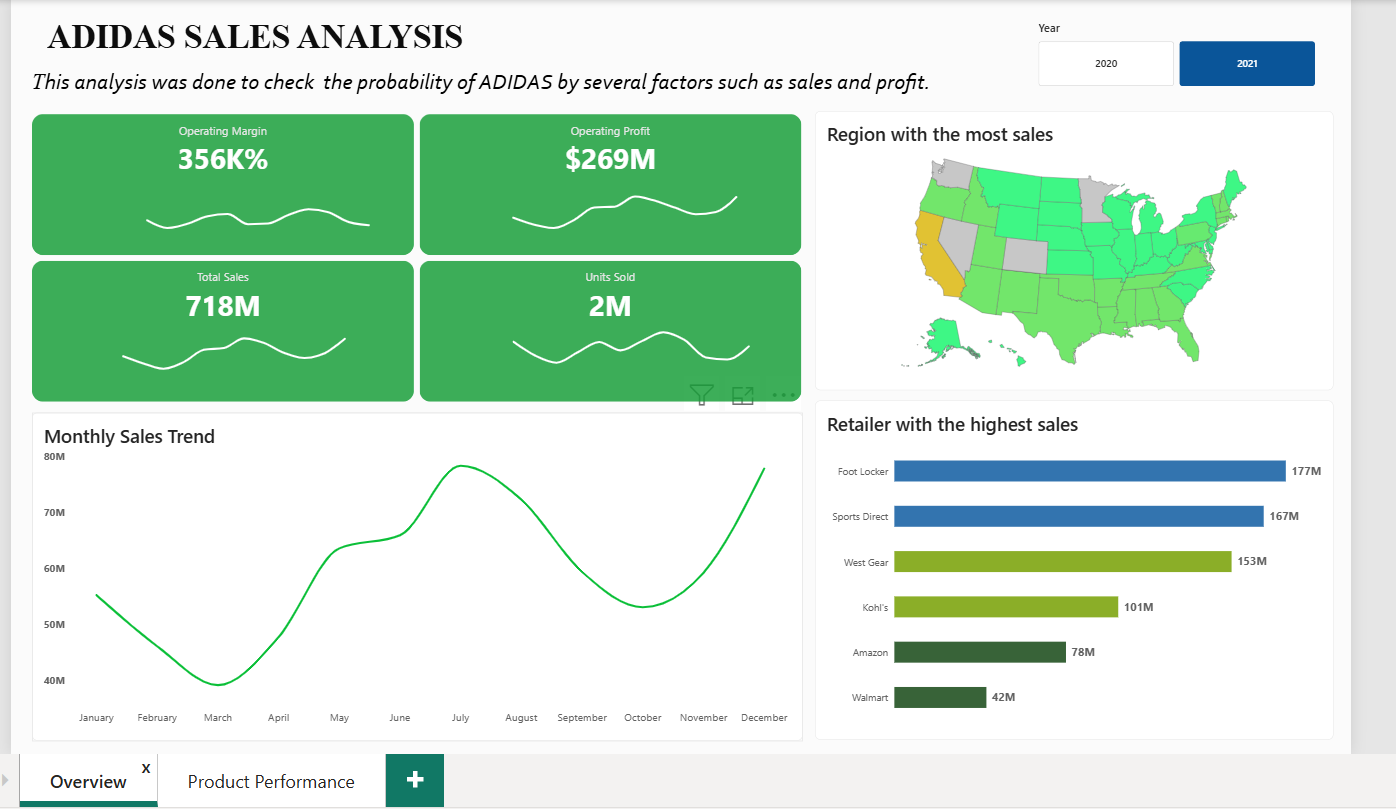

The page's visual inventory and layout, read from the dashboard file:
{"tool":"powerbi","page":{"name":"Overview","canvas":[1920,1080],"ordinal":0},"visuals":[{"type":"lineChart","title":"Monthly Sales Trend","fields":{"Category":["Data Sales Adidas.Invoice Date.Variation.Date Hierarchy.Month"],"Y":["Sum(Data Sales Adidas.Total Sales)"]},"box":[29.5,590.5,1103.9,470.2],"z":0},{"type":"advancedSlicerVisual","fields":{"Values":["Data Sales Adidas.Invoice Date.Variation.Date Hierarchy.Year"]},"box":[1471.8,27.3,397.5,95.4],"z":1000},{"type":"shapeMap","title":"Region with the most sales","fields":{"Category":["Data Sales Adidas.State"],"Value":["Sum(Data Sales Adidas.Total Sales)"]},"box":[1151.6,159,742.7,399.8],"z":2000},{"type":"textbox","box":[52.2,25,1080.7,96.7],"z":3000},{"type":"cardVisual","fields":{"Data":["Sum(Data Sales Adidas.Operating Margin)","Sum(Data Sales Adidas.Operating Profit)","Sum(Data Sales Adidas.Total Sales)","Sum(Data Sales Adidas.Units Sold)"]},"box":[29.5,147.6,1103.9,427],"z":4000},{"type":"barChart","title":"Retailer with the highest sales","fields":{"Category":["Data Sales Adidas.Retailer"],"Y":["Sum(Data Sales Adidas.Total Sales)"]},"box":[1151.6,574.6,742.7,486.1],"z":5000},{"type":"textbox","box":[29.5,97.7,1326.4,50],"z":6000},{"type":"lineChart","fields":{"Category":["Data Sales Adidas.Invoice Date.Variation.Date Hierarchy.Month"],"Y":["Sum(Data Sales Adidas.Operating Margin)"]},"box":[168.1,268,372.5,81.8],"z":7000},{"type":"lineChart","fields":{"Category":["Data Sales Adidas.Invoice Date.Variation.Date Hierarchy.Month"],"Y":["Sum(Data Sales Adidas.Operating Profit)"]},"box":[692.7,256.7,374.8,102.2],"z":8000},{"type":"lineChart","fields":{"Category":["Data Sales Adidas.Invoice Date.Variation.Date Hierarchy.Month"],"Y":["Sum(Data Sales Adidas.Total Sales)"]},"box":[134,458.8,372.5,106.8],"z":9000},{"type":"lineChart","fields":{"Category":["Data Sales Adidas.Invoice Date.Variation.Date Hierarchy.Month"],"Y":["Sum(Data Sales Adidas.Units Sold)"]},"box":[692.7,449.7,392.9,90.9],"z":10000}]}

Visuals, with their boxes on the page's 1920x1080 design canvas (x1, y1, x2, y2). These are canvas units, not pixel positions in the 1396x809 screenshot, which may show the page scaled, cropped or inside an application window:
"Monthly Sales Trend" lineChart: bbox=[30, 590, 1133, 1061]
advancedSlicerVisual - Data Sales Adidas.Invoice Date.Variation.Date Hierarchy.Year: bbox=[1472, 27, 1869, 123]
"Region with the most sales" shapeMap: bbox=[1152, 159, 1894, 559]
textbox: bbox=[52, 25, 1133, 122]
cardVisual - Sum(Data Sales Adidas.Operating Margin) x Sum(Data Sales Adidas.Operating Profit): bbox=[30, 148, 1133, 575]
"Retailer with the highest sales" barChart: bbox=[1152, 575, 1894, 1061]
textbox: bbox=[30, 98, 1356, 148]
lineChart - Data Sales Adidas.Invoice Date.Variation.Date Hierarchy.Month x Sum(Data Sales Adidas.Operating Margin): bbox=[168, 268, 541, 350]
lineChart - Data Sales Adidas.Invoice Date.Variation.Date Hierarchy.Month x Sum(Data Sales Adidas.Operating Profit): bbox=[693, 257, 1068, 359]
lineChart - Data Sales Adidas.Invoice Date.Variation.Date Hierarchy.Month x Sum(Data Sales Adidas.Total Sales): bbox=[134, 459, 506, 566]
lineChart - Data Sales Adidas.Invoice Date.Variation.Date Hierarchy.Month x Sum(Data Sales Adidas.Units Sold): bbox=[693, 450, 1086, 541]
